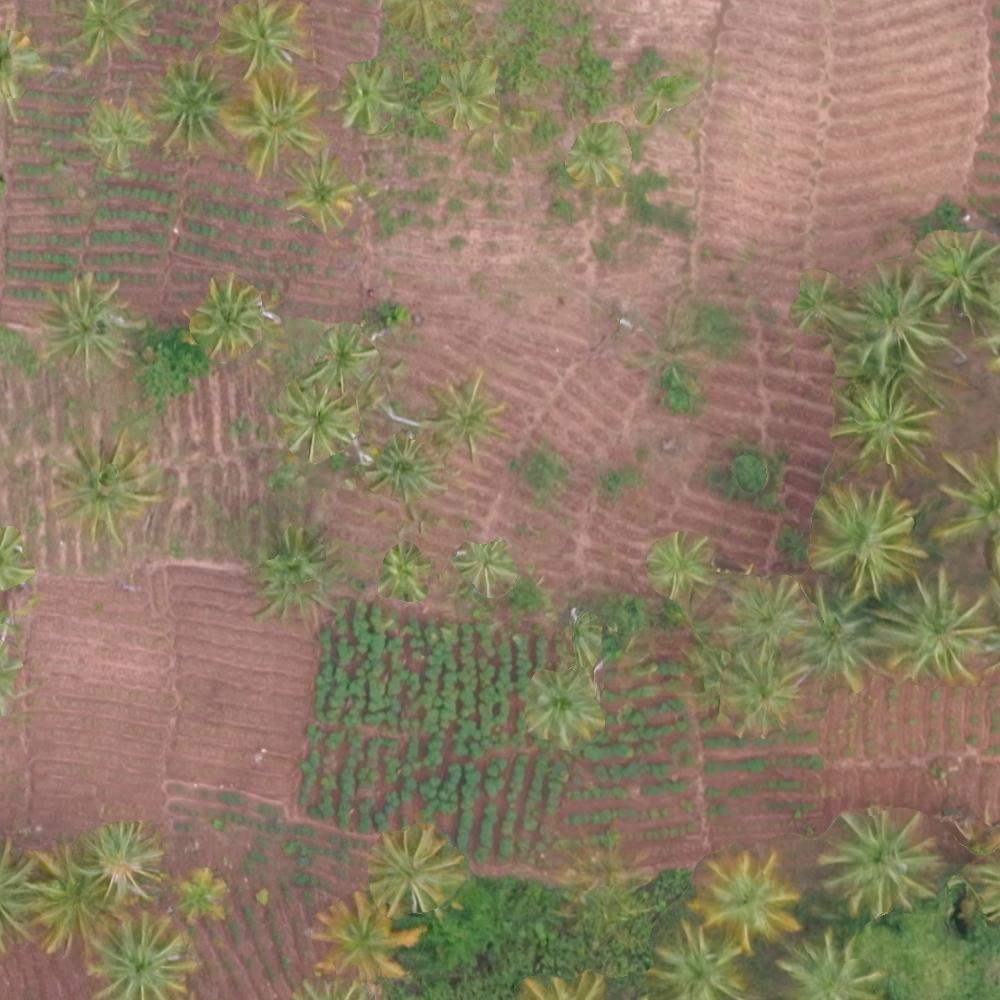Palm: (808, 482, 919, 589), (882, 576, 988, 685), (824, 813, 933, 911), (694, 854, 797, 949), (309, 895, 419, 983), (53, 436, 151, 533), (844, 269, 940, 368), (40, 275, 138, 367), (831, 379, 930, 468), (792, 590, 883, 685), (92, 917, 196, 1000), (227, 78, 321, 167), (367, 829, 458, 918), (214, 1, 310, 82), (717, 572, 810, 655), (914, 235, 997, 322), (717, 650, 807, 730), (655, 926, 748, 1000), (82, 825, 165, 905), (55, 1, 149, 71), (150, 67, 228, 150), (426, 378, 503, 461), (278, 384, 355, 461), (367, 436, 448, 508), (519, 666, 597, 739), (252, 535, 332, 606), (187, 278, 263, 350), (78, 95, 154, 166), (333, 65, 404, 134), (432, 57, 500, 125), (285, 156, 353, 224), (645, 532, 712, 601), (308, 325, 375, 383), (570, 127, 629, 183), (378, 547, 427, 597)
